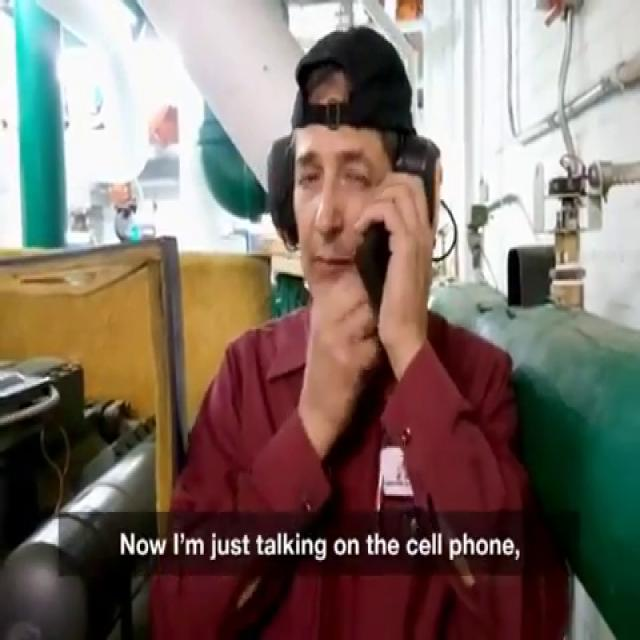earmuff: (263, 128, 304, 254)
